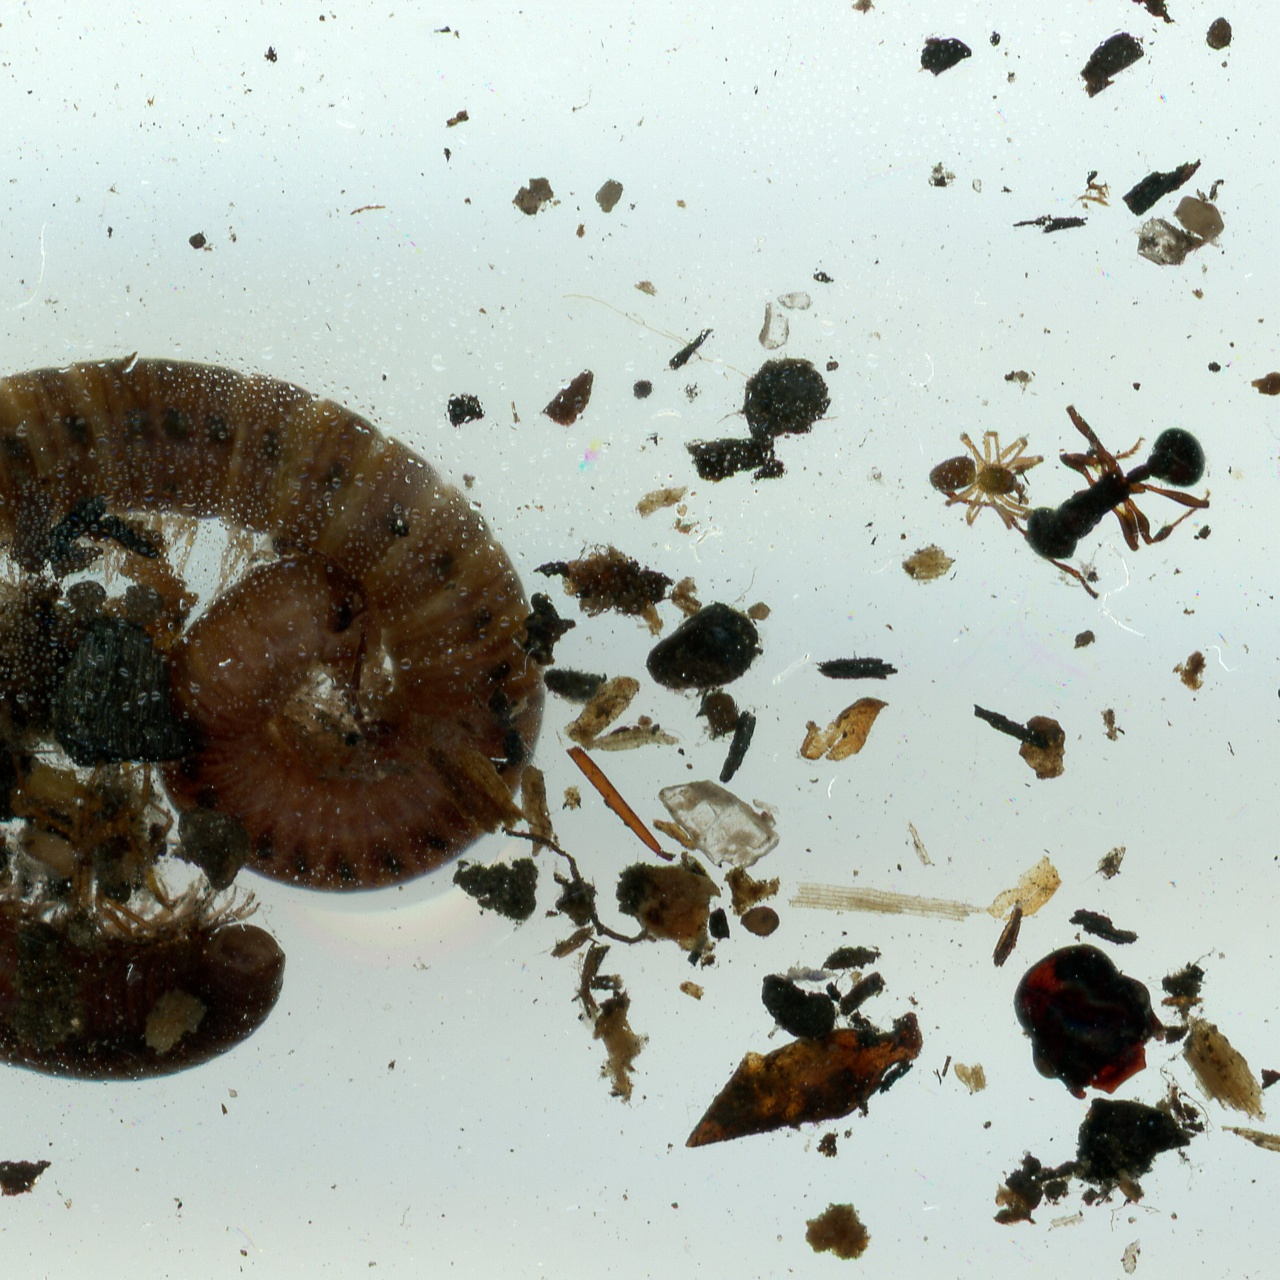arthropod: (0, 353, 546, 1085), (934, 341, 1241, 639), (927, 428, 1046, 532)
